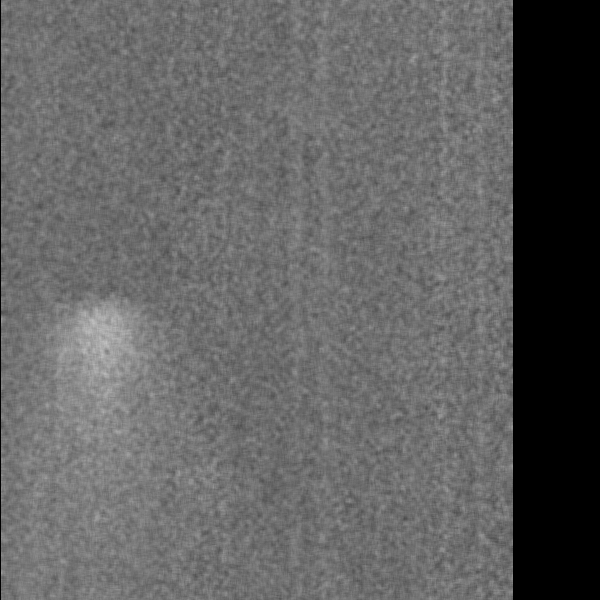spark: (10, 298, 147, 483)
